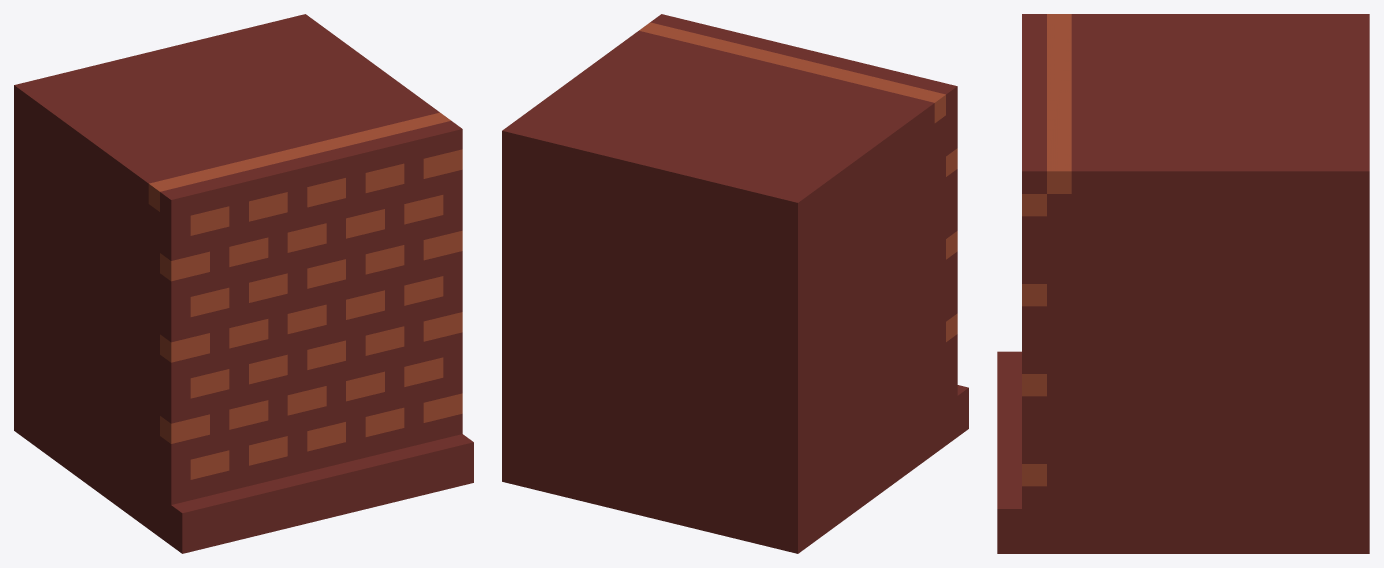
Rendered from dungeon_b_a_outer_wall_segment_a.obj.
3 views of the same model, side by side, from view 1: azimuth 30°, elevation 25°; view 2: azimuth 150°, elevation 25°; view 3: azimuth 270°, elevation 25° (orthographic). The views are drawn at different scales.
Size of the model in its own units: 1.5 by 1.7 by 1.5.
Materials: 1 (1 with a texture image).
